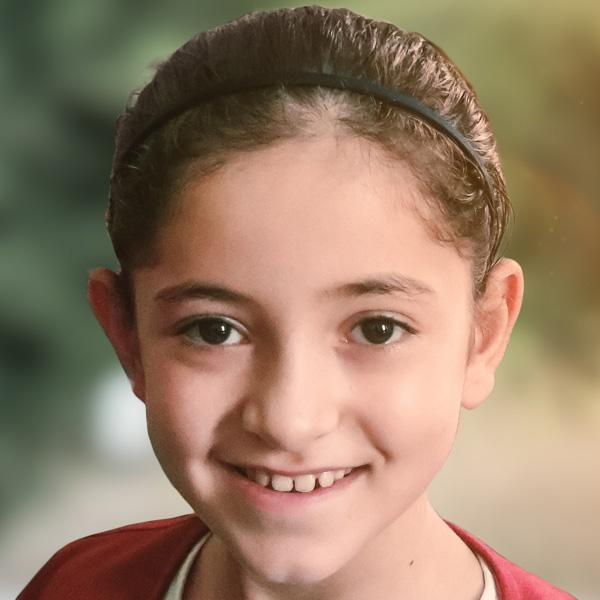Eyes: (158, 297, 259, 365), (325, 299, 428, 364)
